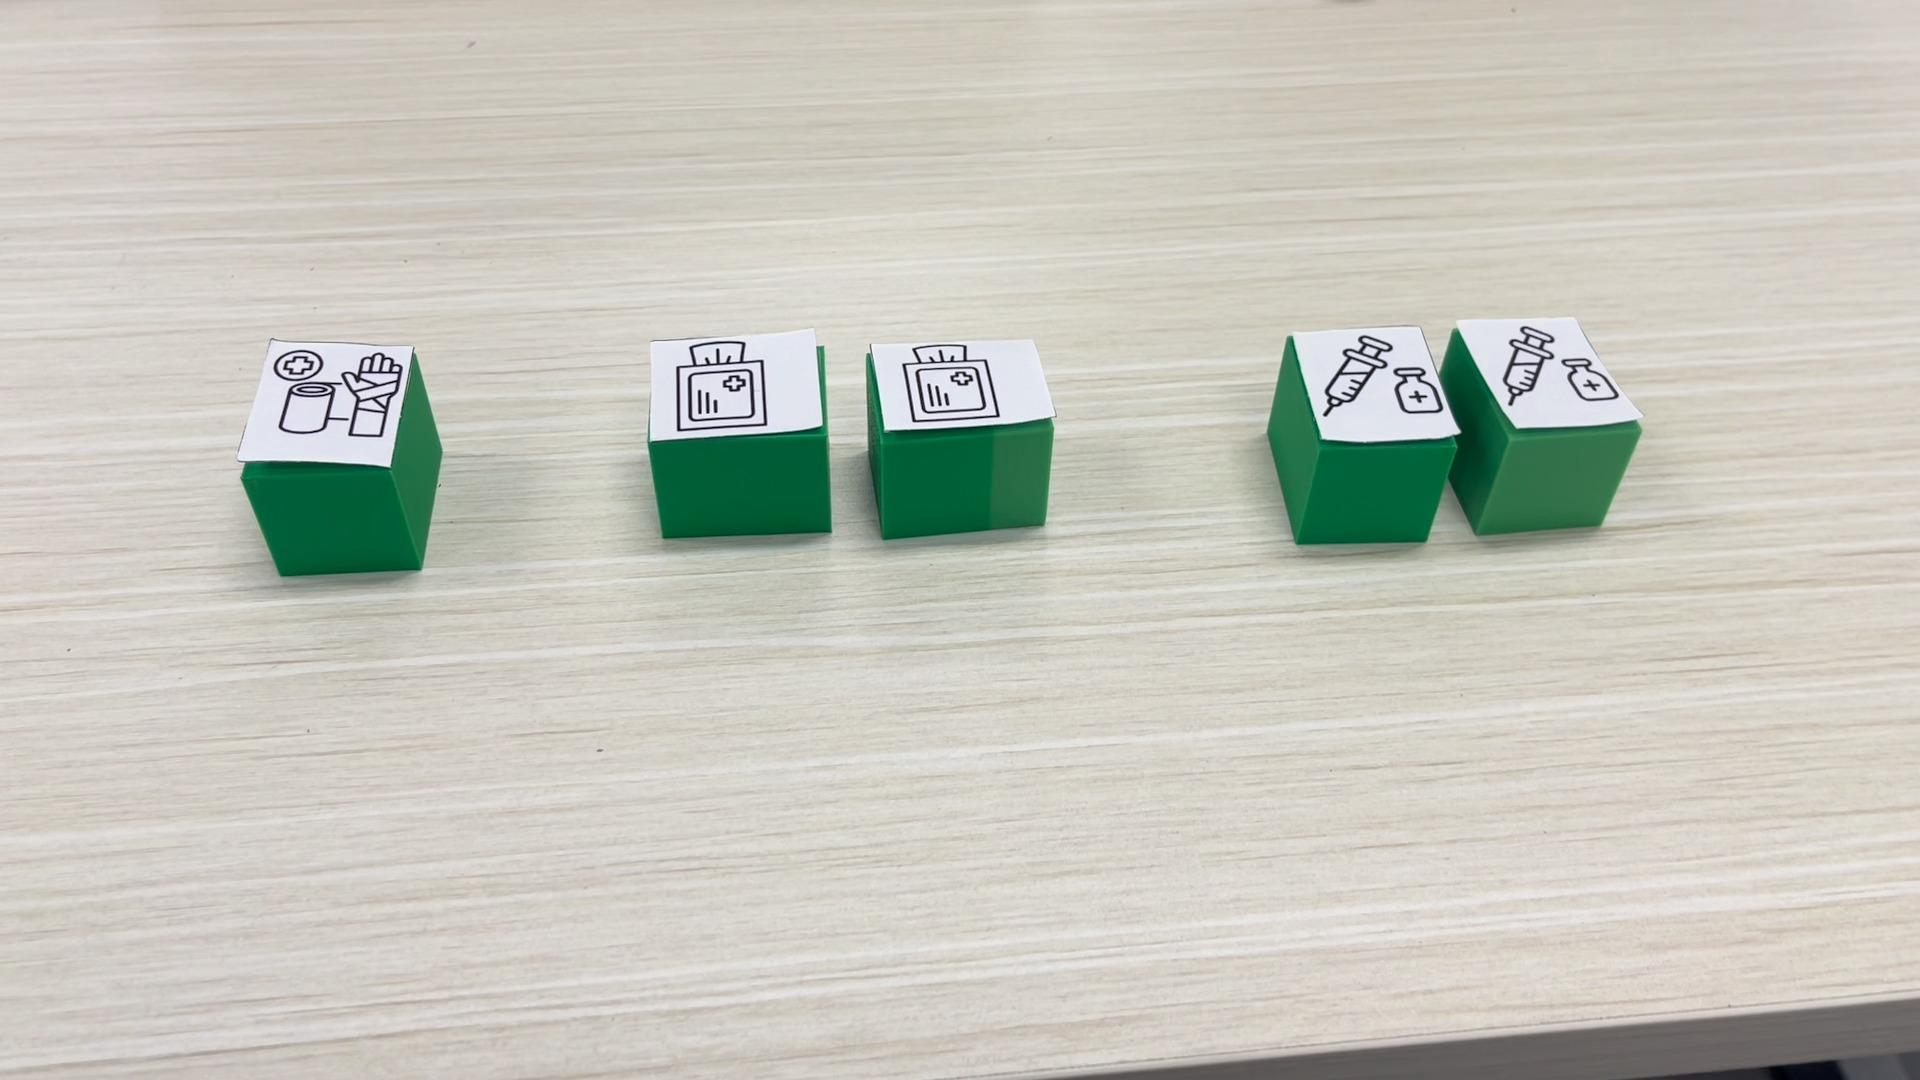Bandages: (237, 339, 440, 578)
Gauze: (865, 336, 1056, 541), (647, 328, 829, 539)
antiseptic cream: (1437, 313, 1643, 534), (1265, 323, 1461, 545)
